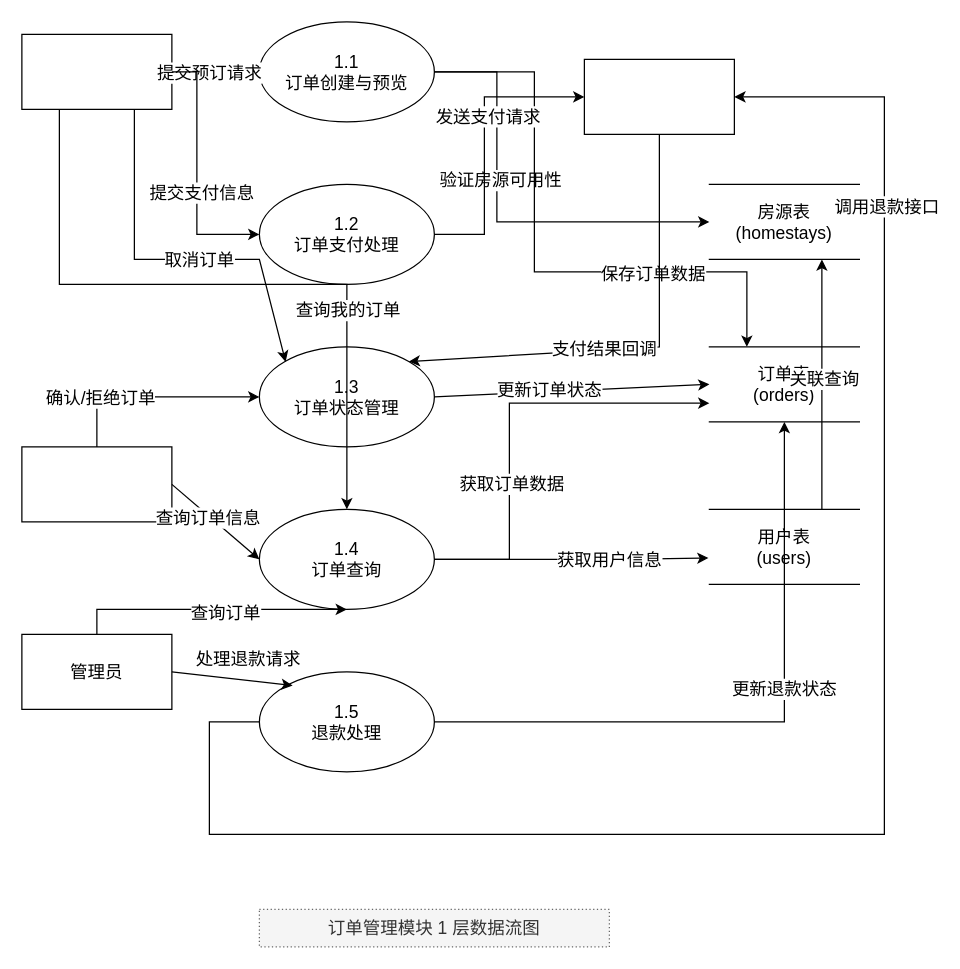
The diagram is 960 pixels wide and 969 high, and some of its shapes have lost their labels. Here are the shapes that lost their labels. From the top down, the centre of each, then its label:
(x=96, y=71): 普通用户/客户
(x=658, y=96): 支付系统
(x=96, y=484): 房东
